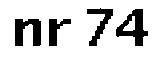4: (115, 4, 151, 48)
7: (83, 6, 113, 49)
n: (11, 18, 42, 50)
r: (47, 15, 75, 48)
